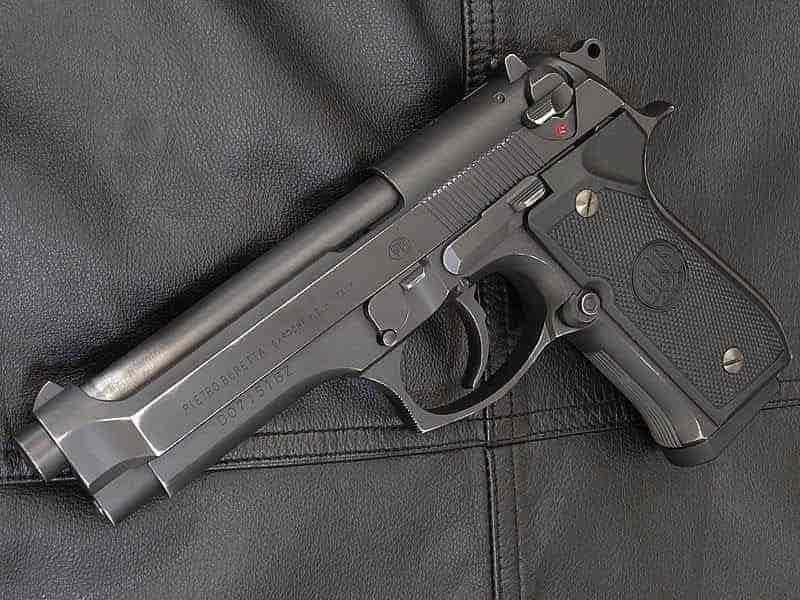GUN: (8, 38, 797, 534)
